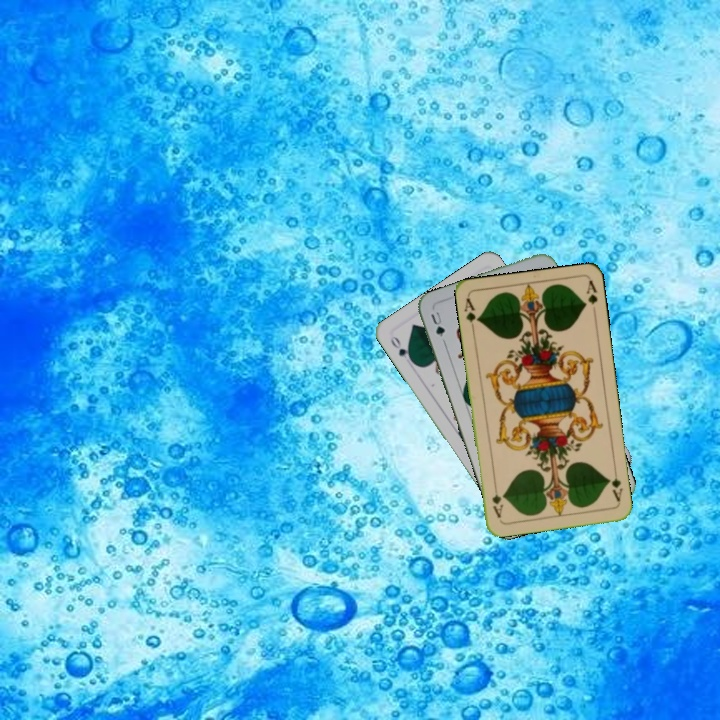GA: (460, 294, 482, 334), (604, 465, 625, 505)
GO: (386, 332, 416, 366)
GU: (426, 307, 447, 339)
